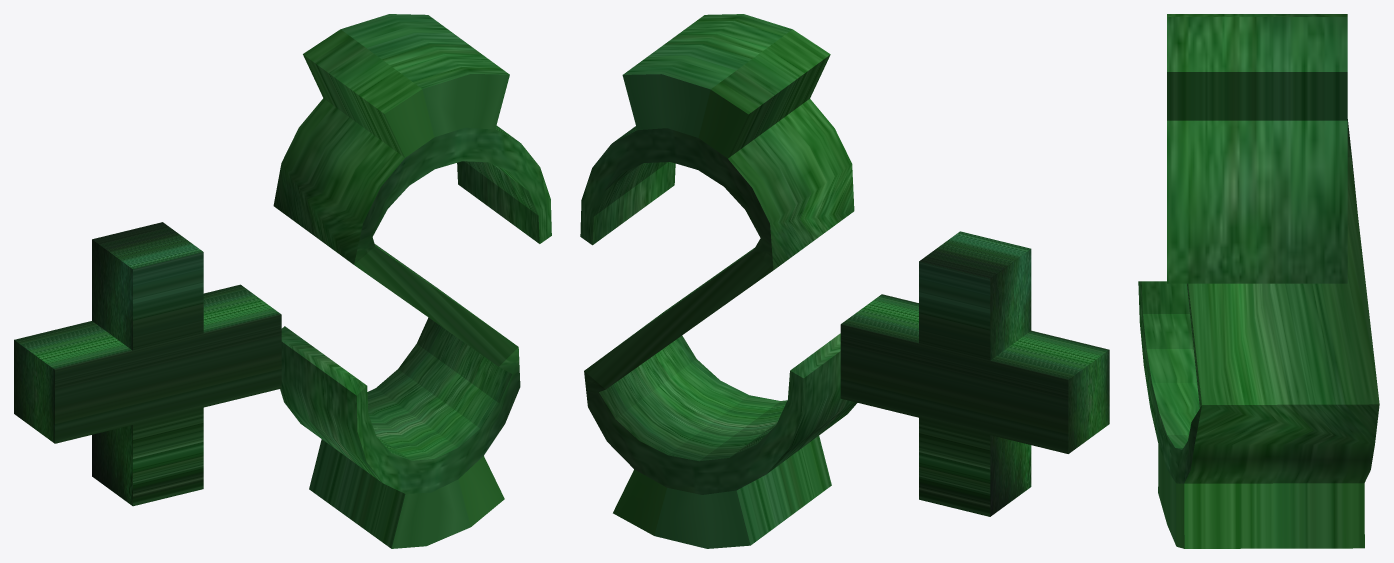
The model's file is Icon Gain Money.fbx.
3 renders of one model, left to right at view 1: azimuth 30°, elevation 25°; view 2: azimuth 150°, elevation 25°; view 3: azimuth 270°, elevation 25°, orthographic. The views are drawn at different scales.
Visible parts, largest first — view 1: Icon_Gain_Money; view 2: Icon_Gain_Money; view 3: Icon_Gain_Money.
Boxes of the visible parts, box(x1,y1,x2,y2) form: Icon_Gain_Money: box(14, 14, 551, 548); Icon_Gain_Money: box(580, 14, 1109, 548); Icon_Gain_Money: box(1138, 14, 1379, 548).
Size of the model in its own units: 6.65 by 6.23 by 2.67.
1 material, 1 textured.
